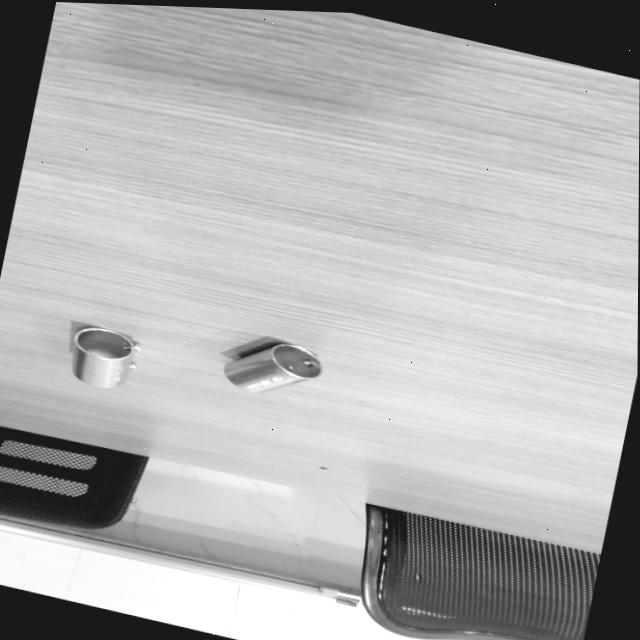Co_Lon: (221, 335, 324, 400)
Co_Nho: (63, 321, 139, 395)
